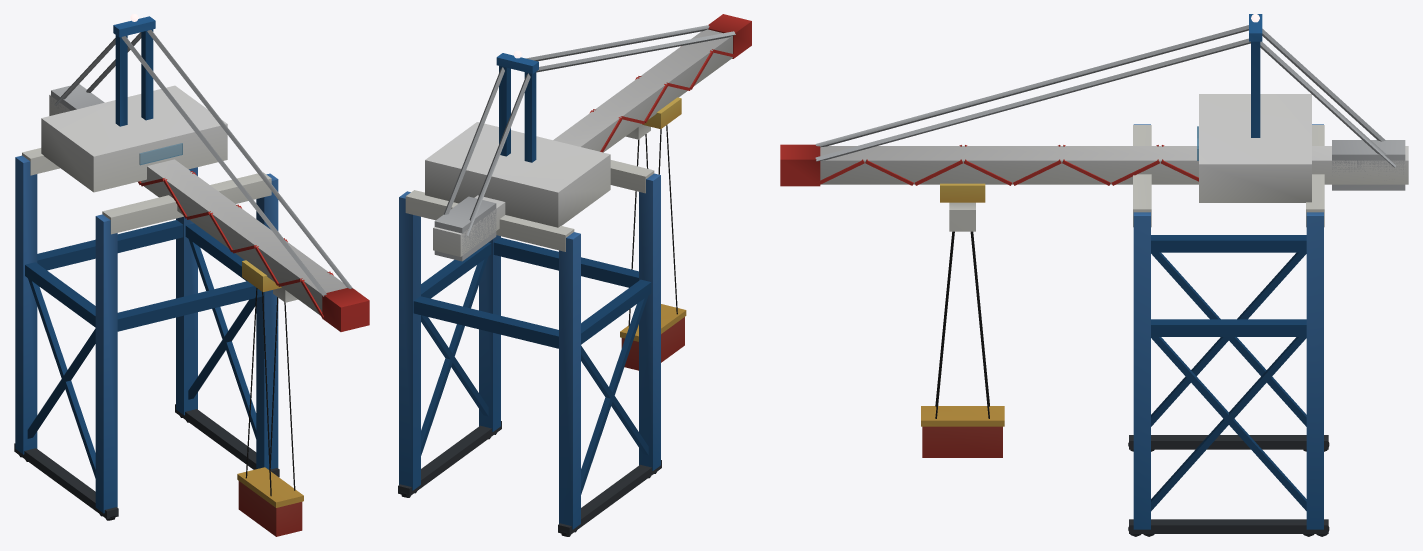
File: grua_portico.glb
3 renders of one model, left to right at view 1: azimuth 30°, elevation 25°; view 2: azimuth 150°, elevation 25°; view 3: azimuth 270°, elevation 25°, orthographic. The views are drawn at different scales.
Parts seen in each view (by area): view 1: grua_portico; view 2: grua_portico; view 3: grua_portico.
Boxes of the visible parts, x1,y1,x2,y2 form: grua_portico: [14, 14, 369, 536]; grua_portico: [398, 14, 751, 536]; grua_portico: [780, 14, 1408, 536].
Size of the model in its own units: 16.3 by 39.75 by 47.2.
